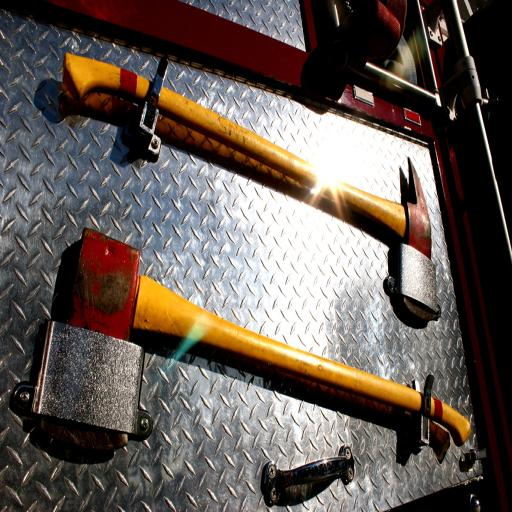Axe: (64, 65, 433, 318), (69, 224, 467, 455)
